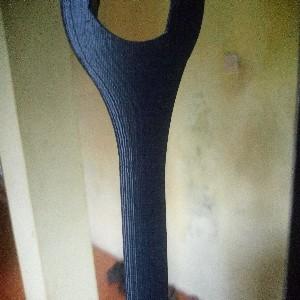spanner: (59, 1, 206, 300)
